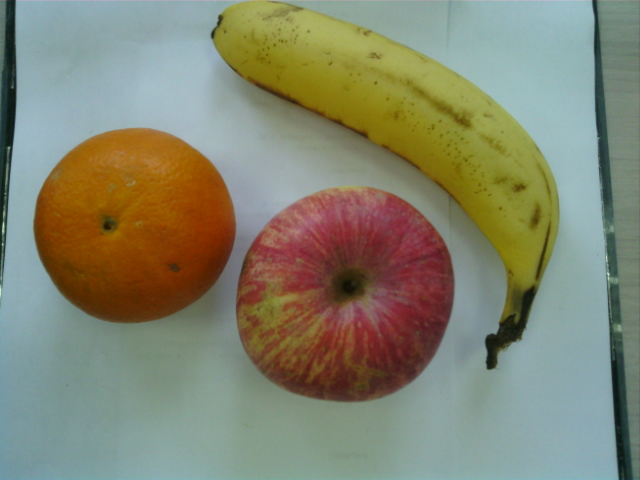normal_apple: (234, 186, 454, 405)
normal_banana: (212, 2, 558, 297)
normal_orange: (30, 125, 237, 324)
